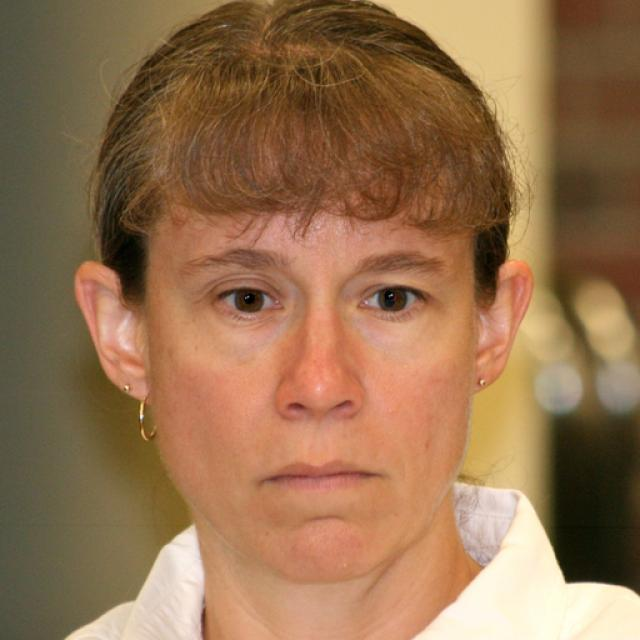sad: (152, 124, 474, 582)
